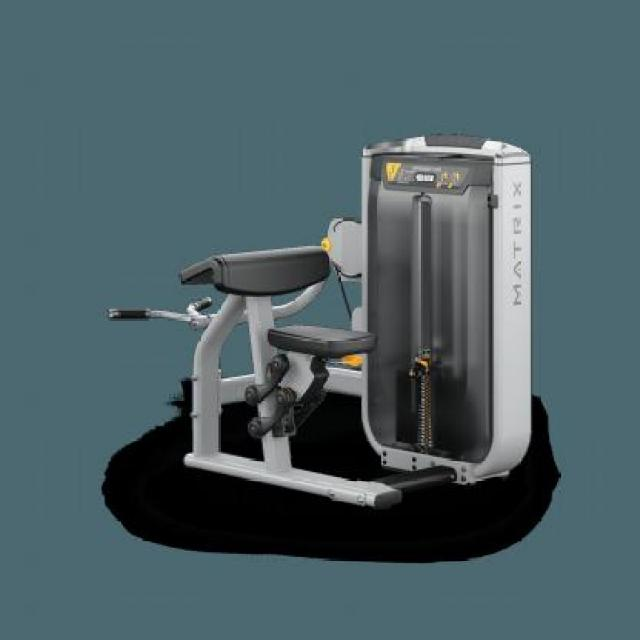arm curl machine: (106, 129, 534, 509)
